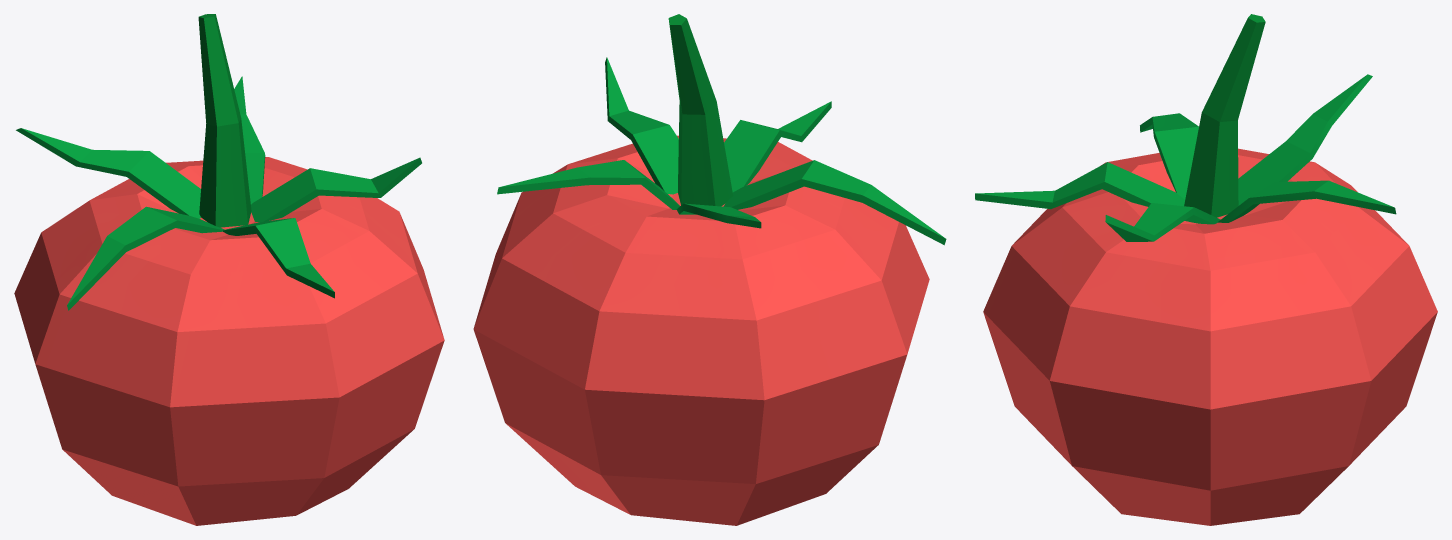
Rendered from tomato_001.glb.
3 views of the same model, side by side, from view 1: azimuth 30°, elevation 25°; view 2: azimuth 150°, elevation 25°; view 3: azimuth 270°, elevation 25° (orthographic). The views are drawn at different scales.
Visible parts, largest first — view 1: tomato_001; view 2: tomato_001; view 3: tomato_001.
Boxes of the visible parts, <box> form: tomato_001: <box>14,14,444,525</box>; tomato_001: <box>473,14,946,525</box>; tomato_001: <box>975,14,1437,525</box>.
Bounding box in the file's own units: 0.08 × 0.0887 × 0.0794.
1 material, 1 textured.
